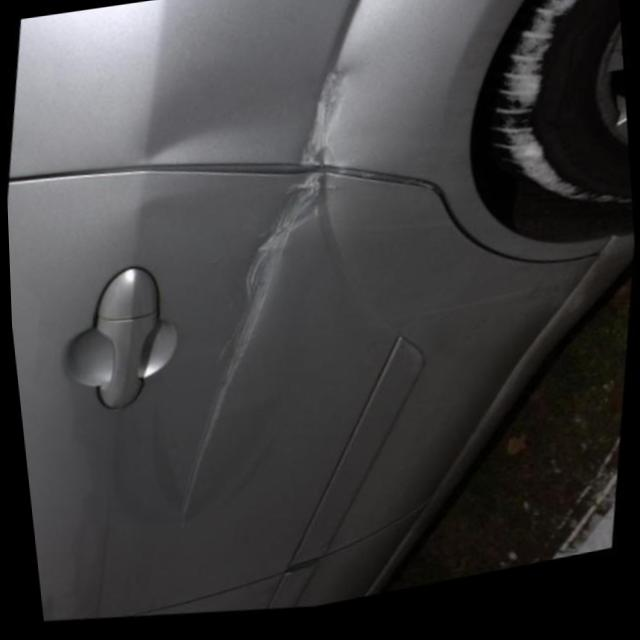Scratch: (204, 69, 365, 365)
